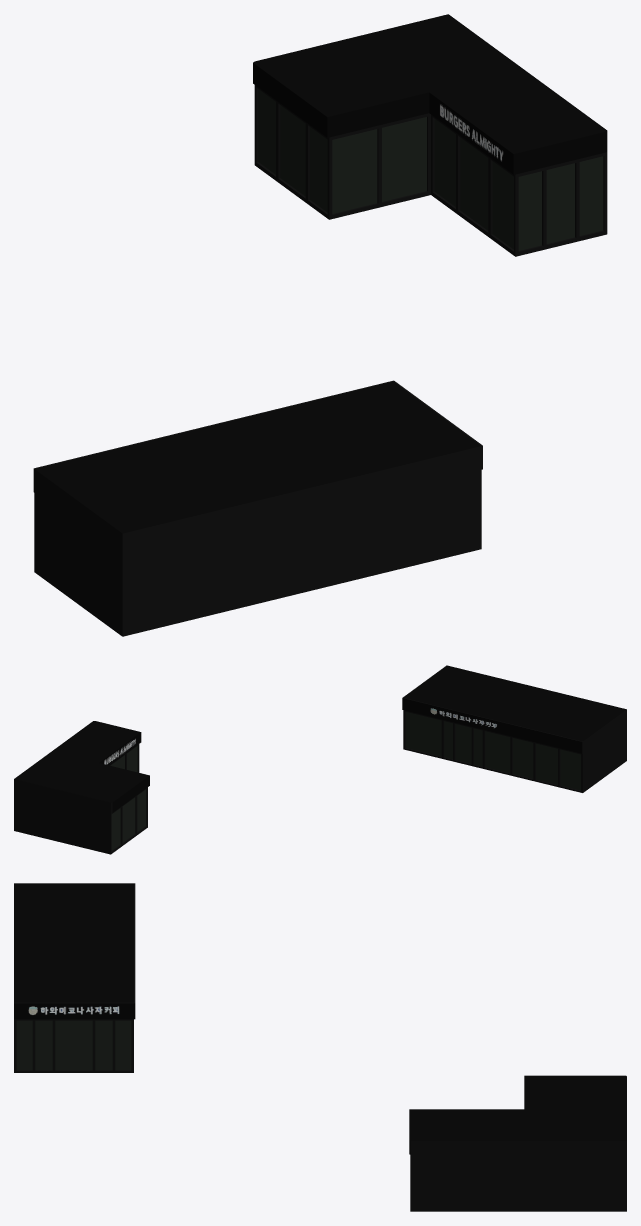
The model's file is KonaAllMighty.fbx.
3 renders of one model, top to bottom at view 1: azimuth 30°, elevation 25°; view 2: azimuth 150°, elevation 25°; view 3: azimuth 270°, elevation 25°, orthographic. The views are drawn at different scales.
Visible parts, largest first — view 1: Box005, Box006, Object003; view 2: Box005, Box006, Object003; view 3: Box005, Box006, Object003.
Part boxes in pixels (x1,y1,x2,y2): Box005: [33, 380, 482, 636]; Box006: [254, 85, 607, 256]; Object003: [253, 14, 607, 174]; Box005: [402, 665, 626, 792]; Box006: [14, 732, 147, 854]; Object003: [14, 721, 149, 812]; Box005: [14, 883, 135, 1072]; Box006: [410, 1141, 626, 1211]; Object003: [409, 1075, 626, 1154].
Size of the model in its own units: 25.58 by 3.27 by 25.7.
Materials: 5 (2 with a texture image).
